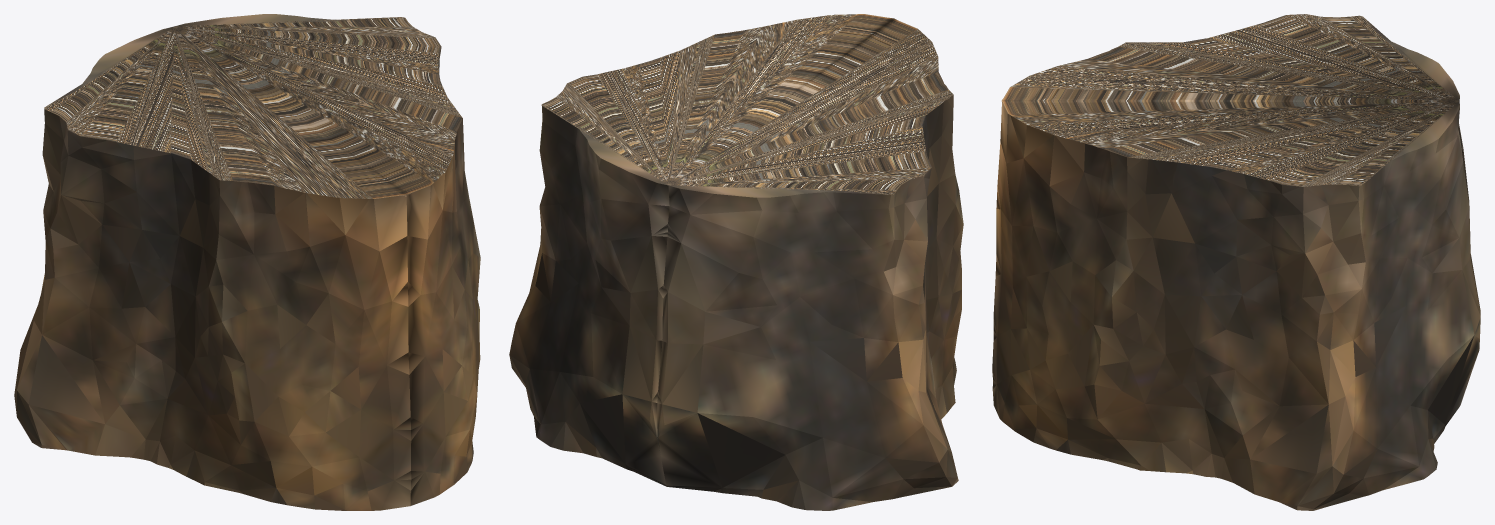
Rendered from Sungaya_inexpectata_31mg.019.obj.
The picture shows the model from 3 angles, left to right: view 1: azimuth 30°, elevation 25°; view 2: azimuth 150°, elevation 25°; view 3: azimuth 270°, elevation 25°; orthographic projection. The views are drawn at different scales.
Visible parts, largest first — view 1: 06-t3_Sungaya_inexpectata_31mg.019; view 2: 06-t3_Sungaya_inexpectata_31mg.019; view 3: 06-t3_Sungaya_inexpectata_31mg.019.
Boxes of the visible parts, left/top/right/bottom form: 06-t3_Sungaya_inexpectata_31mg.019: left=14, top=14, right=480, bottom=510; 06-t3_Sungaya_inexpectata_31mg.019: left=509, top=14, right=963, bottom=510; 06-t3_Sungaya_inexpectata_31mg.019: left=992, top=14, right=1480, bottom=510.
Bounding box in the file's own units: 0.00192 × 0.00128 × 0.00185.
1 material, 1 textured.
